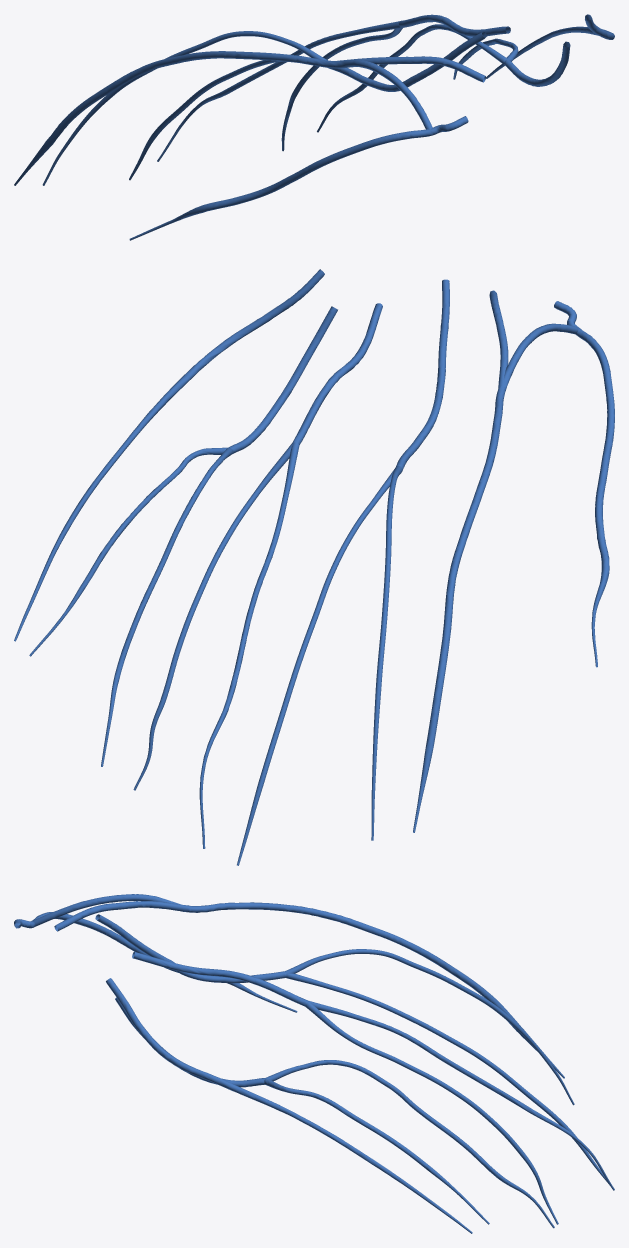
3 views of the same model, one above another, from view 1: azimuth 30°, elevation 25°; view 2: azimuth 150°, elevation 25°; view 3: azimuth 270°, elevation 25° (orthographic). The views are drawn at different scales.
Parts seen in each view (by area): view 1: 右侧指掌侧静脉; view 2: 右侧指掌侧静脉; view 3: 右侧指掌侧静脉.
Boxes of the visible parts, left/top/right/bottom form: 右侧指掌侧静脉: left=14, top=14, right=614, bottom=240; 右侧指掌侧静脉: left=14, top=269, right=614, bottom=865; 右侧指掌侧静脉: left=14, top=894, right=614, bottom=1233.
Bounding box in the file's own units: 0.1472 × 0.1019 × 0.1806.
